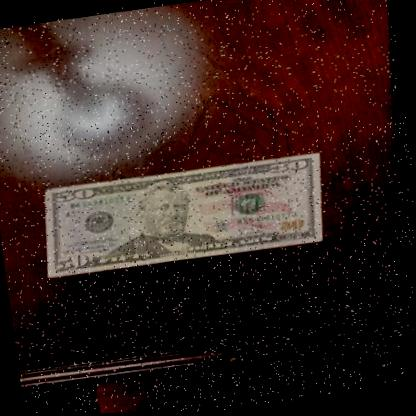fifty-front: (39, 145, 335, 284)
